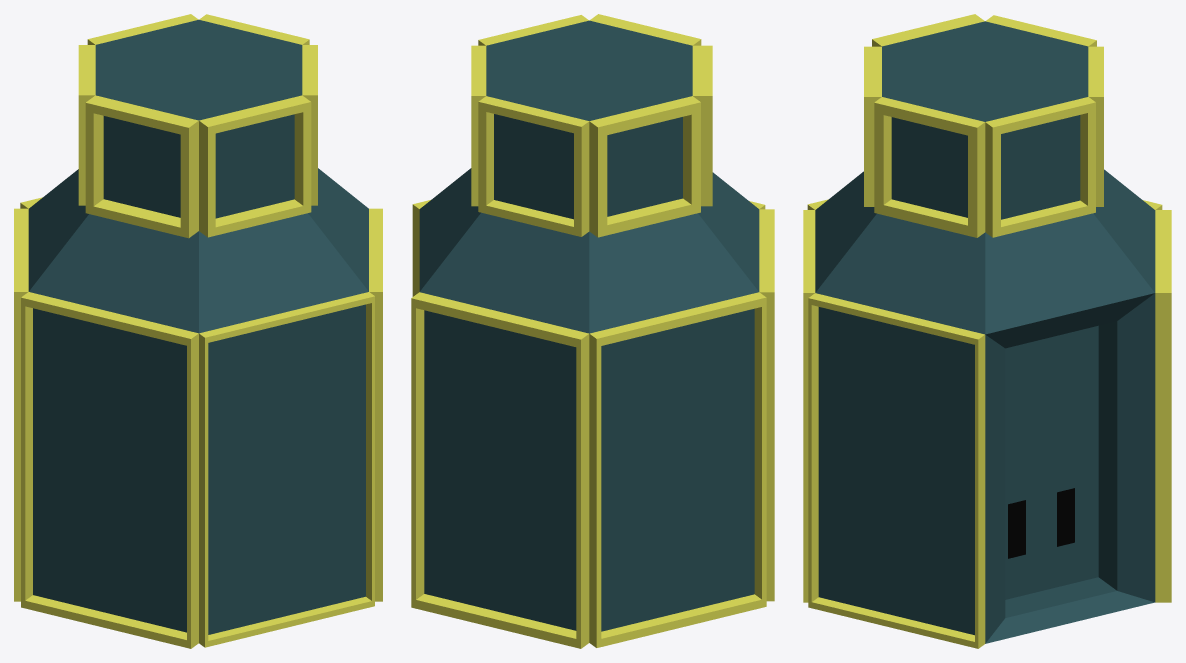
Rendered from Housev3_test.fbx.
3 renders of one model, left to right at view 1: azimuth 30°, elevation 25°; view 2: azimuth 150°, elevation 25°; view 3: azimuth 270°, elevation 25°, orthographic.
Visible parts, largest first — view 1: pCylinder1; view 2: pCylinder1; view 3: pCylinder1.
Boxes of the visible parts, x1,y1,x2,y2 form: pCylinder1: (14, 14, 382, 648); pCylinder1: (411, 14, 774, 648); pCylinder1: (803, 14, 1171, 648).
Size of the model in its own units: 11.56 by 14.94 by 10.2.
